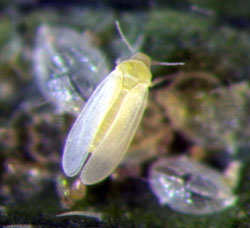Tobacco Whitefly: (53, 39, 164, 194)
